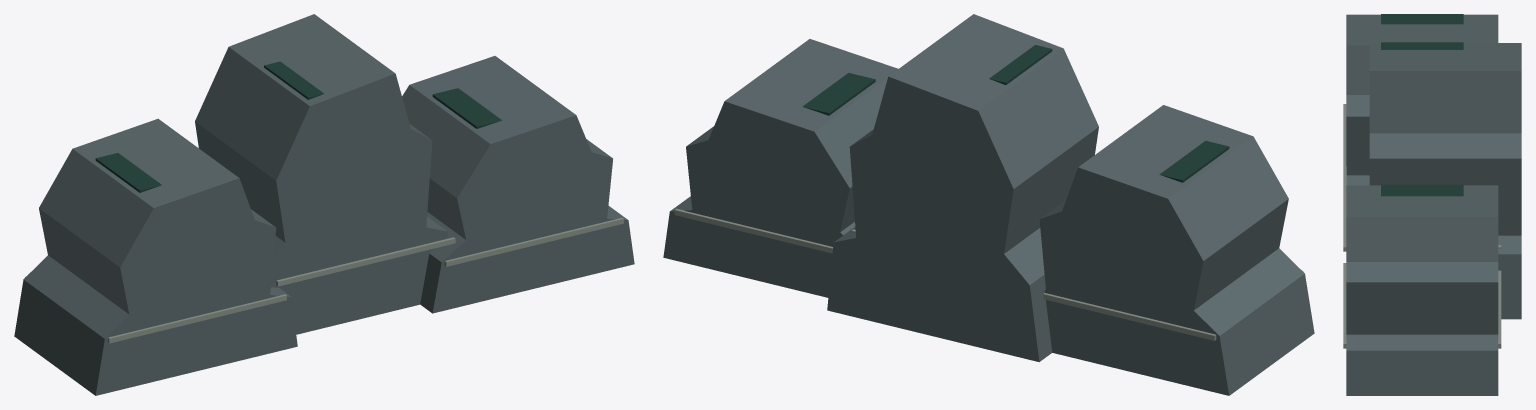
The model's file is PirateCove_TerrainBackdrop_Standard.glb.
The picture shows the model from 3 angles, left to right: view 1: azimuth 30°, elevation 25°; view 2: azimuth 150°, elevation 25°; view 3: azimuth 270°, elevation 25°; orthographic projection. The views are drawn at different scales.
Visible parts, largest first — view 1: PirateCove_TerrainBackdrop_Standard; view 2: PirateCove_TerrainBackdrop_Standard; view 3: PirateCove_TerrainBackdrop_Standard.
Boxes of the visible parts, left/top/right/bottom form: PirateCove_TerrainBackdrop_Standard: left=14, top=14, right=634, bottom=395; PirateCove_TerrainBackdrop_Standard: left=663, top=14, right=1314, bottom=395; PirateCove_TerrainBackdrop_Standard: left=1343, top=14, right=1521, bottom=395.
Size of the model in its own units: 17.6 by 7.4 by 5.39.
